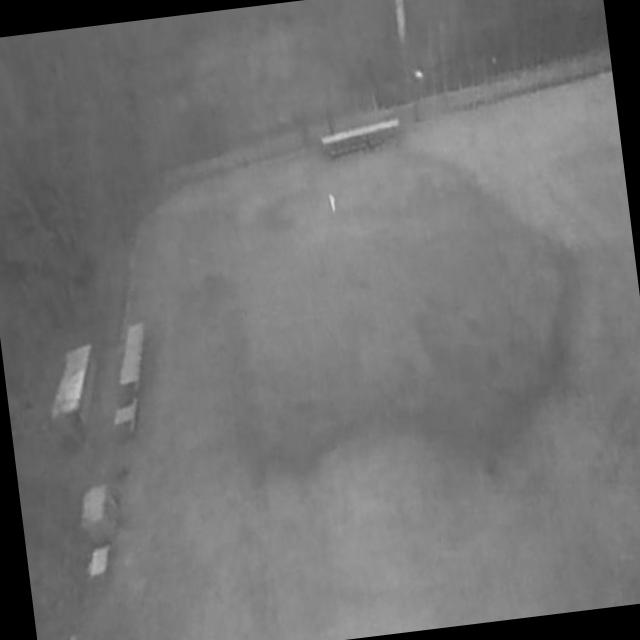person: (328, 193, 338, 216)
